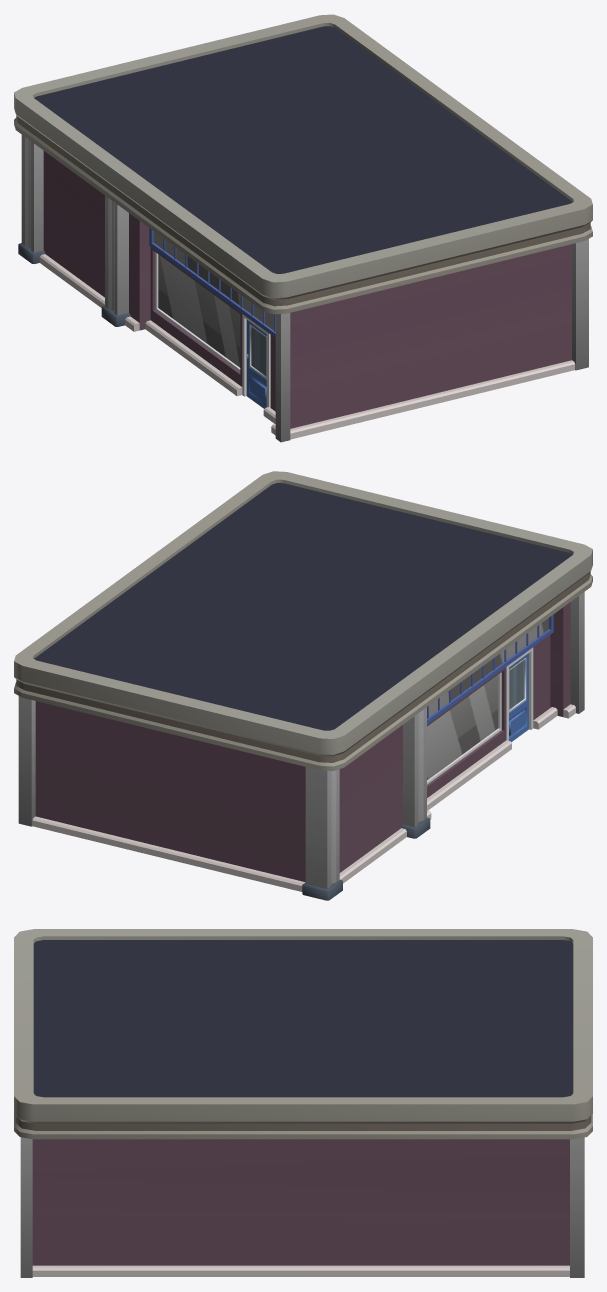
The model's file is Building_11_4_I.glb.
The picture shows the model from 3 angles, top to bottom: view 1: azimuth 30°, elevation 25°; view 2: azimuth 150°, elevation 25°; view 3: azimuth 270°, elevation 25°; orthographic projection. The views are drawn at different scales.
Parts seen in each view (by area): view 1: Building_11_4_I; view 2: Building_11_4_I; view 3: Building_11_4_I.
Boxes of the visible parts, x1,y1,x2,y2 form: Building_11_4_I: (14,14,592,442); Building_11_4_I: (14,471,592,900); Building_11_4_I: (14,929,592,1277).
Bounding box in the file's own units: 8.33 × 3.93 × 11.63.
3 materials, 3 textured.
